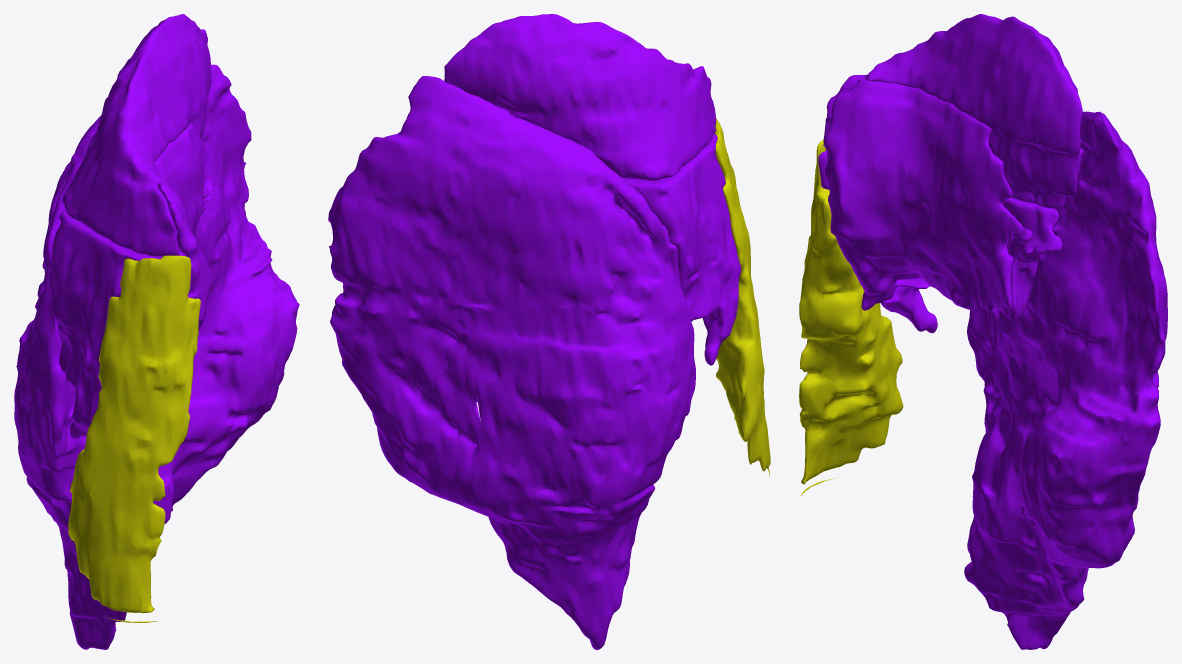
File: Glutes.nii.gltf
3 views of the same model, side by side, from view 1: azimuth 30°, elevation 25°; view 2: azimuth 150°, elevation 25°; view 3: azimuth 270°, elevation 25° (orthographic). The views are drawn at different scales.
Parts seen in each view (by area): view 1: Gluteus Maximus_R, Gluteus Medius_R, Tensor Fasciae Latae_R, Gluteus Minimus_R; view 2: Gluteus Maximus_R, Gluteus Medius_R, Tensor Fasciae Latae_R; view 3: Gluteus Maximus_R, Gluteus Minimus_R, Gluteus Medius_R, Tensor Fasciae Latae_R.
Part boxes in pixels (x1=…): Gluteus Maximus_R: x1=14, y1=29, x2=299, y2=649; Gluteus Medius_R: x1=49, y1=14, x2=214, y2=438; Tensor Fasciae Latae_R: x1=68, y1=255, x2=200, y2=622; Gluteus Minimus_R: x1=154, y1=122, x2=214, y2=330; Gluteus Maximus_R: x1=328, y1=76, x2=695, y2=649; Gluteus Medius_R: x1=444, y1=14, x2=741, y2=365; Tensor Fasciae Latae_R: x1=715, y1=118, x2=770, y2=476; Gluteus Maximus_R: x1=964, y1=111, x2=1167, y2=649; Gluteus Minimus_R: x1=823, y1=79, x2=1032, y2=313; Gluteus Medius_R: x1=818, y1=14, x2=1083, y2=333; Tensor Fasciae Latae_R: x1=799, y1=139, x2=903, y2=495.
Bounding box in the file's own units: 0.174 × 0.3304 × 0.1671.
